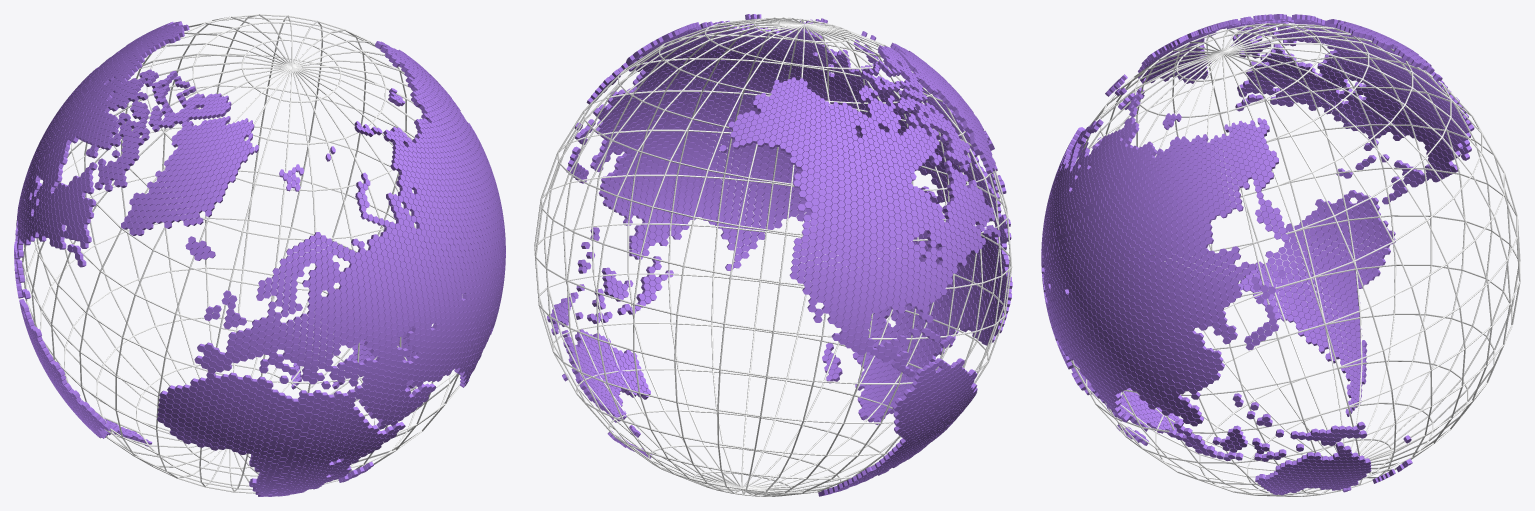
3 renders of one model, left to right at view 1: azimuth 30°, elevation 25°; view 2: azimuth 150°, elevation 25°; view 3: azimuth 270°, elevation 25°, orthographic.
Visible parts, largest first — view 1: Null1, Sphere; view 2: Null1, Sphere; view 3: Null1, Sphere.
Part boxes in pixels (bbox=[...]): Null1: bbox=[14, 21, 505, 496]; Sphere: bbox=[22, 14, 460, 493]; Null1: bbox=[547, 14, 1012, 496]; Sphere: bbox=[534, 17, 1012, 496]; Null1: bbox=[1041, 14, 1474, 495]; Sphere: bbox=[1069, 23, 1520, 496].
Size of what is drawn, in the model's own units: 60.21 by 59.7 by 60.23.
